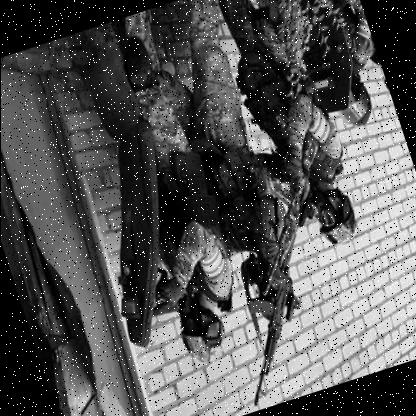rifle: (212, 118, 358, 297), (208, 251, 327, 407), (137, 276, 187, 325)
